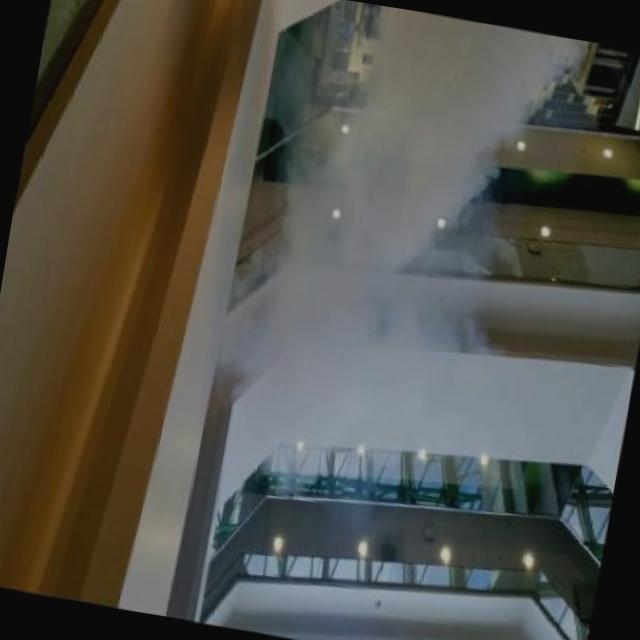smoke: (260, 112, 517, 467)
